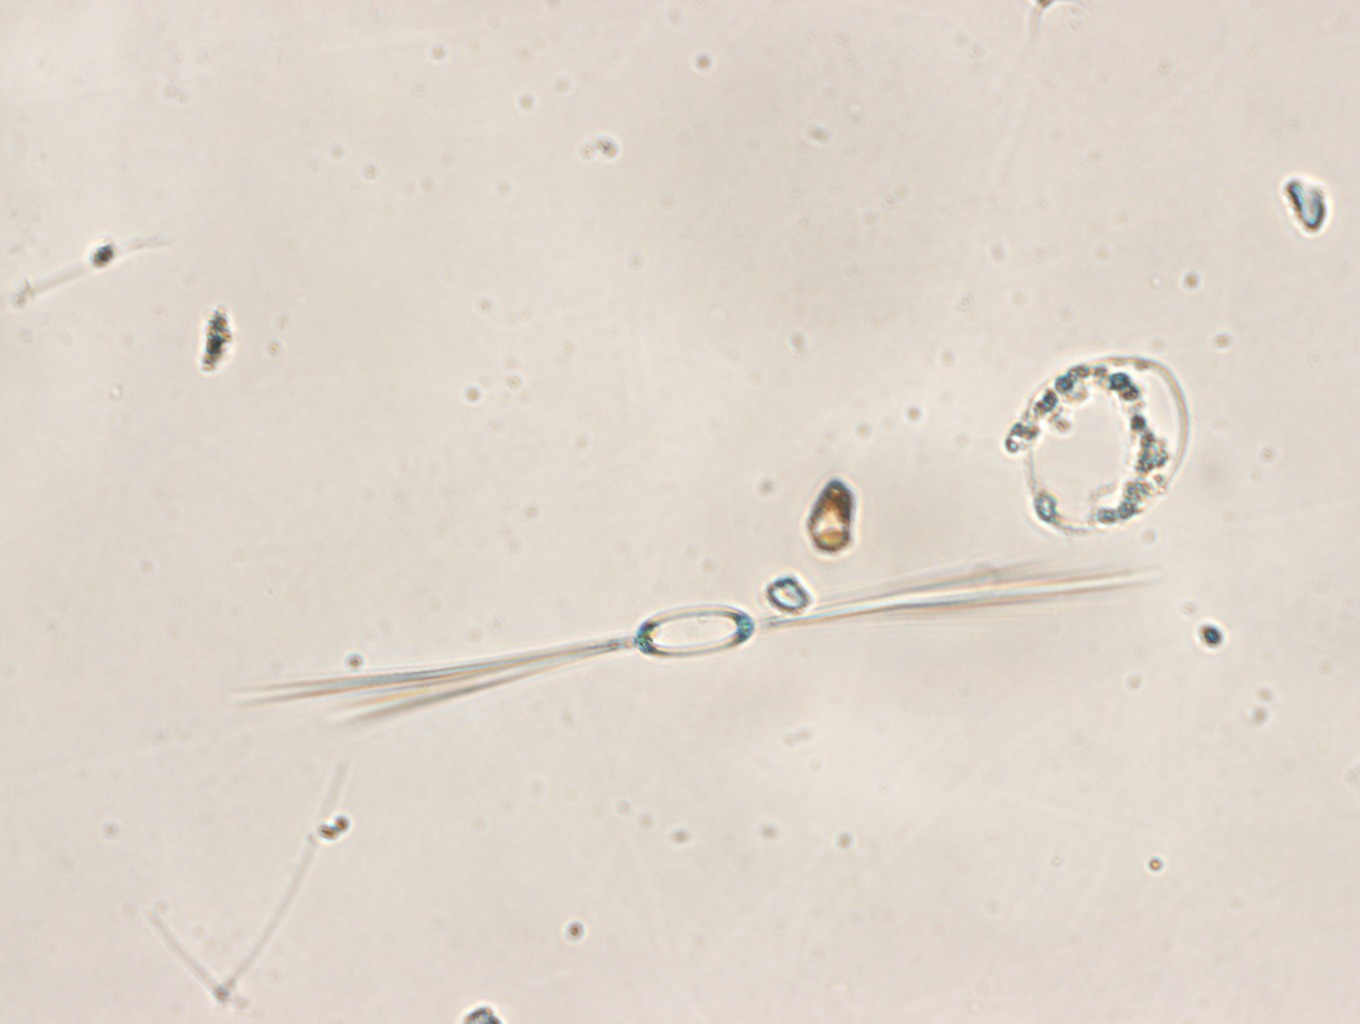chaetoceros: (227, 567, 1155, 734)
